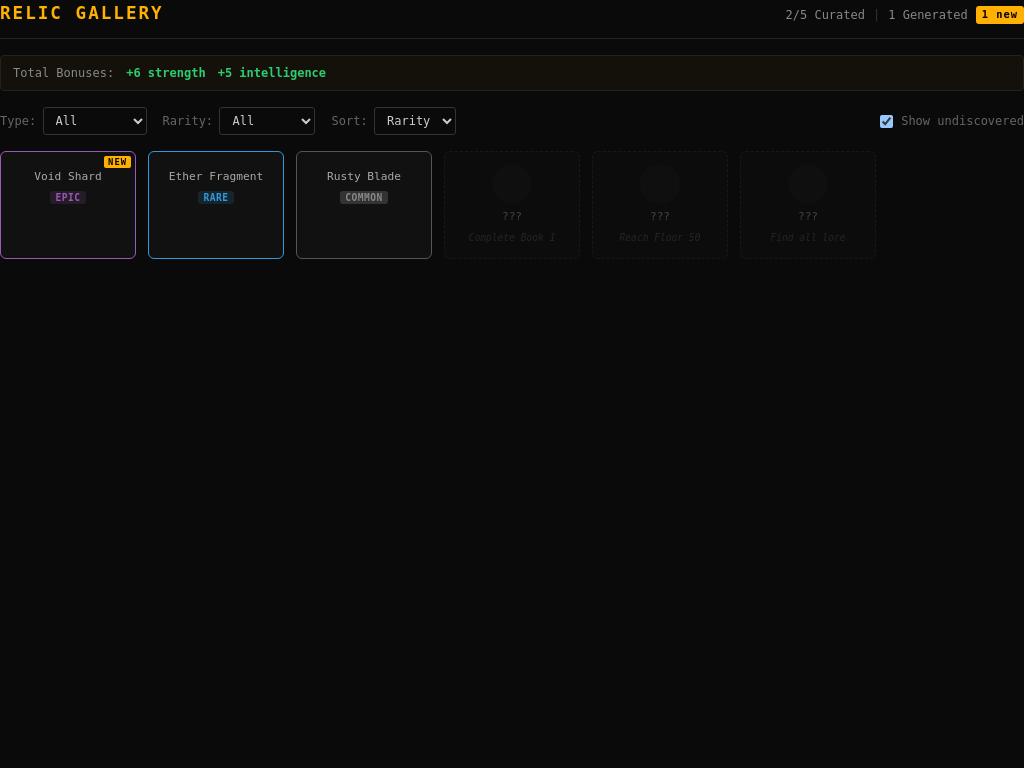
Test: RelicGallery Component › opens inspection modal on artifact click
Click the text "Void Shard".
click(68, 178)  # box left=34, top=170, right=102, bottom=185
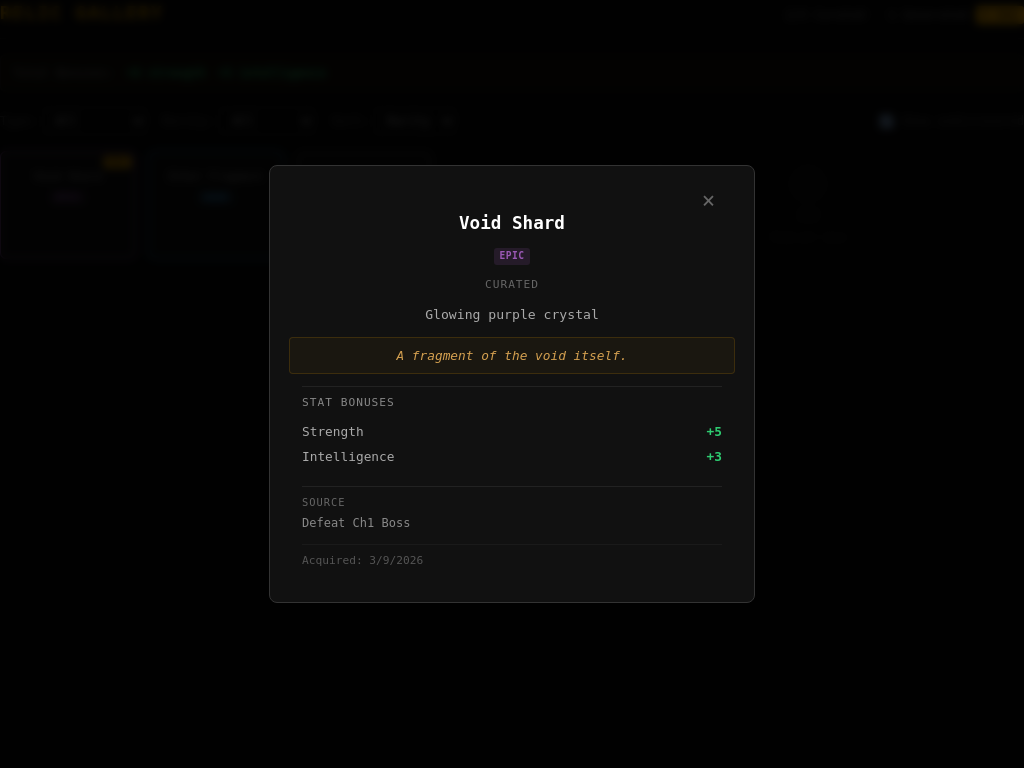
Now the text "A fragment of the void itself." is shown, box left=289, top=337, right=735, bottom=374
Now the text "Glowing purple crystal" is shown, box left=425, top=306, right=599, bottom=325
Now the text "Stat Bonuses" is shown, box left=302, top=396, right=395, bottom=409
